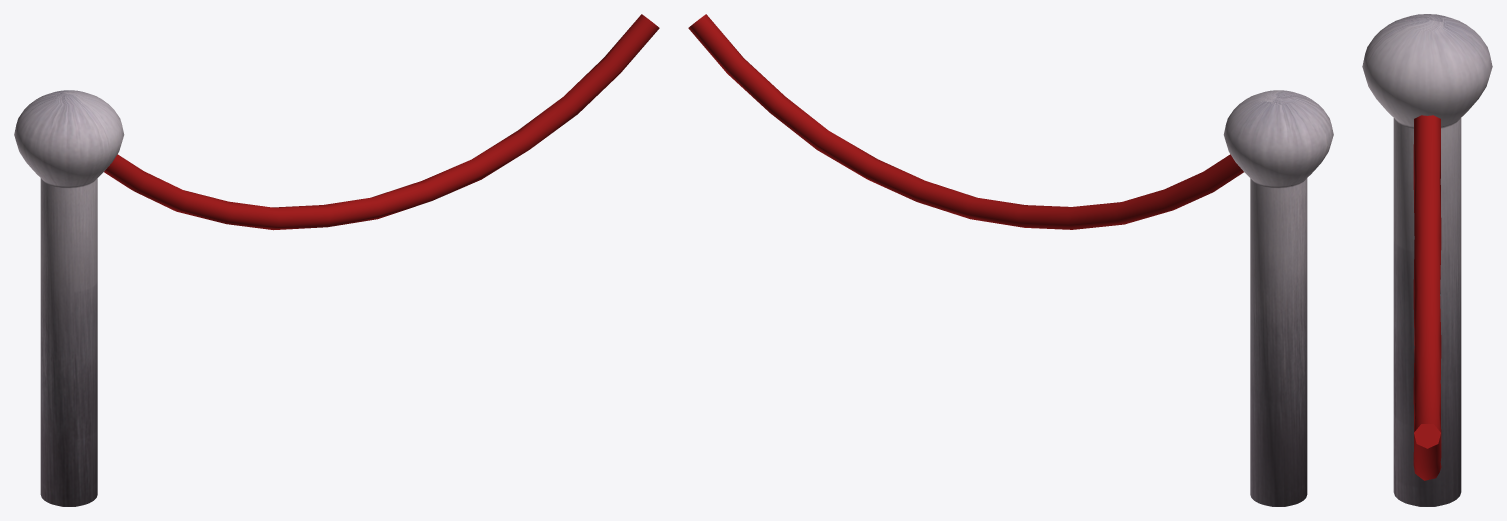
File: prop_obstacle_ropeblock.FBX
3 views of the same model, side by side, from view 1: azimuth 30°, elevation 25°; view 2: azimuth 150°, elevation 25°; view 3: azimuth 270°, elevation 25° (orthographic). The views are drawn at different scales.
Parts seen in each view (by area): view 1: prop_obstacle_rope_holder, prop_obstacle_rope; view 2: prop_obstacle_rope_holder, prop_obstacle_rope; view 3: prop_obstacle_rope_holder, prop_obstacle_rope.
Part boxes in pixels (x1=…): prop_obstacle_rope_holder: x1=14, y1=90, x2=124, y2=506; prop_obstacle_rope: x1=104, y1=14, x2=659, y2=230; prop_obstacle_rope_holder: x1=1223, y1=90, x2=1333, y2=506; prop_obstacle_rope: x1=688, y1=14, x2=1243, y2=229; prop_obstacle_rope_holder: x1=1362, y1=14, x2=1492, y2=506; prop_obstacle_rope: x1=1413, y1=115, x2=1441, y2=480.
Bounding box in the file's own units: 1.9 × 1.15 × 0.285.
2 materials, 1 textured.
